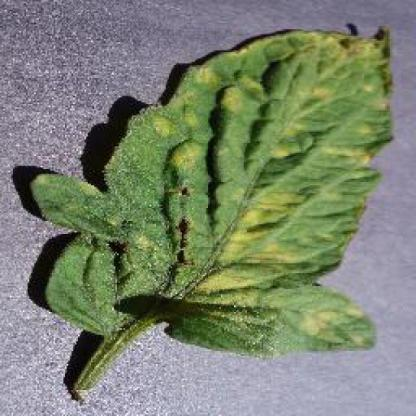Tomato_Leaf_Mold: (44, 28, 395, 348)
